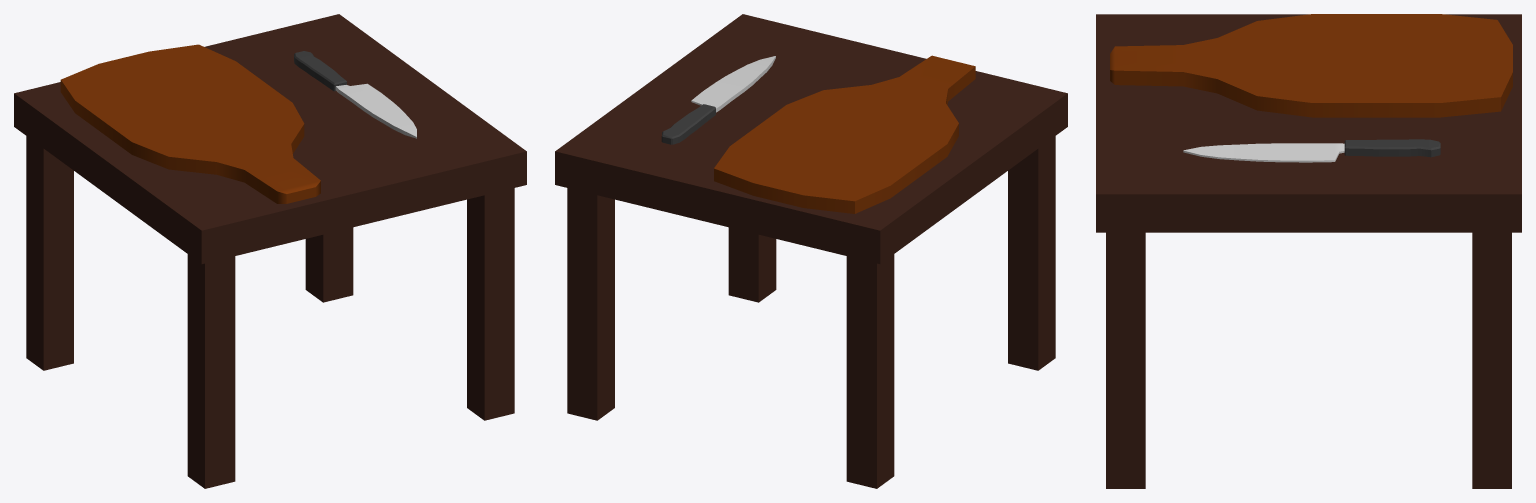
File: cuttingstation.fbx
The picture shows the model from 3 angles, left to right: view 1: azimuth 30°, elevation 25°; view 2: azimuth 150°, elevation 25°; view 3: azimuth 270°, elevation 25°; orthographic projection. The views are drawn at different scales.
Parts seen in each view (by area): view 1: Tabletop, cuttingboard_GEO, pCube8, pCube7, pCube5, pCube6, knife_PUB:Blade_GEO, knife_PUB:Handle_GEO; view 2: Tabletop, cuttingboard_GEO, pCube5, pCube6, pCube8, pCube7, knife_PUB:Blade_GEO, knife_PUB:Handle_GEO; view 3: Tabletop, cuttingboard_GEO, pCube6, pCube7, knife_PUB:Blade_GEO, knife_PUB:Handle_GEO.
Boxes of the visible parts, bbox=[...] form: Tabletop: bbox=[14, 14, 526, 263]; cuttingboard_GEO: bbox=[60, 44, 320, 203]; pCube8: bbox=[187, 254, 235, 488]; pCube7: bbox=[467, 188, 514, 420]; pCube5: bbox=[26, 136, 73, 370]; pCube6: bbox=[305, 227, 353, 302]; knife_PUB:Blade_GEO: bbox=[335, 83, 416, 138]; knife_PUB:Handle_GEO: bbox=[294, 51, 346, 91]; Tabletop: bbox=[555, 14, 1067, 263]; cuttingboard_GEO: bbox=[714, 55, 975, 213]; pCube5: bbox=[846, 254, 894, 488]; pCube6: bbox=[567, 188, 614, 420]; pCube8: bbox=[1008, 136, 1055, 370]; pCube7: bbox=[728, 227, 776, 302]; knife_PUB:Blade_GEO: bbox=[691, 56, 775, 112]; knife_PUB:Handle_GEO: bbox=[661, 104, 715, 144]; Tabletop: bbox=[1096, 14, 1521, 232]; cuttingboard_GEO: bbox=[1110, 14, 1512, 117]; pCube6: bbox=[1472, 232, 1511, 488]; pCube7: bbox=[1106, 232, 1145, 488]; knife_PUB:Blade_GEO: bbox=[1183, 143, 1344, 162]; knife_PUB:Handle_GEO: bbox=[1344, 139, 1440, 157].
Size of the model in its own units: 112 by 90.61 by 112.
